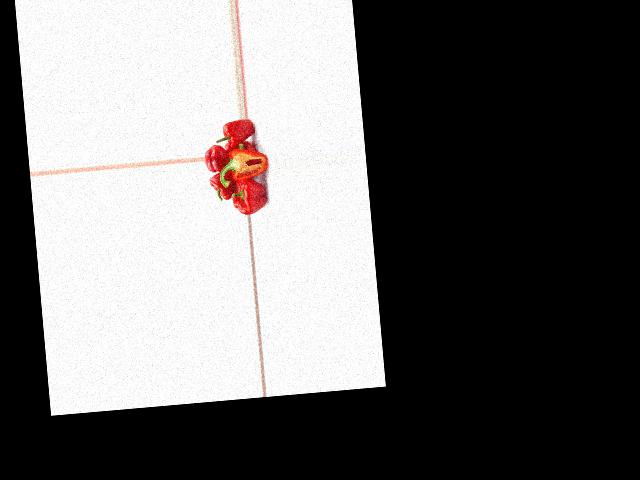bell_pepper: (208, 170, 235, 202)
